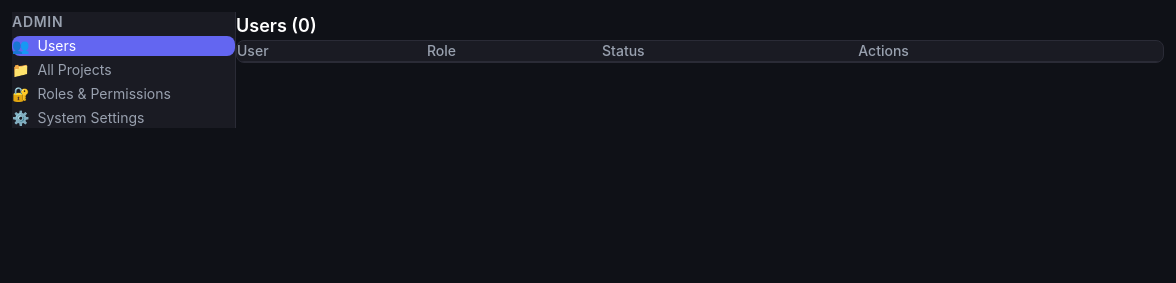
AdminPage › opens role editor when a role is clicked
Step 1. Click the button "🔐 Roles & Permissions" → click(124, 94), box [12,84,235,104]
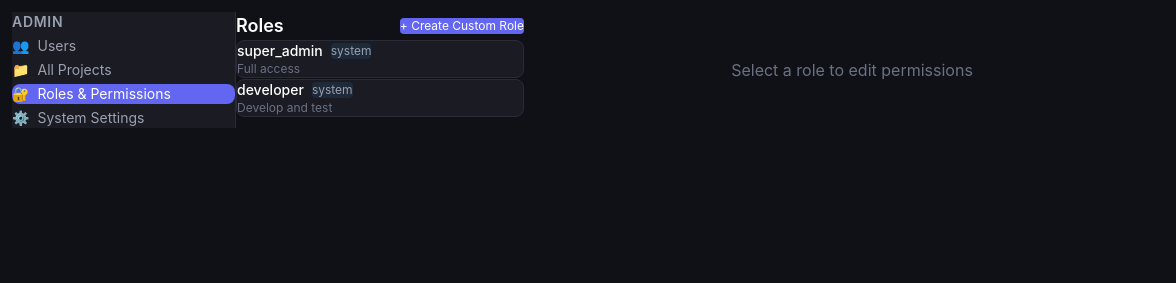
Now the text "super_admin" is shown
Step 2. Click the text "super_admin" → click(280, 51), box [237,41,323,61]
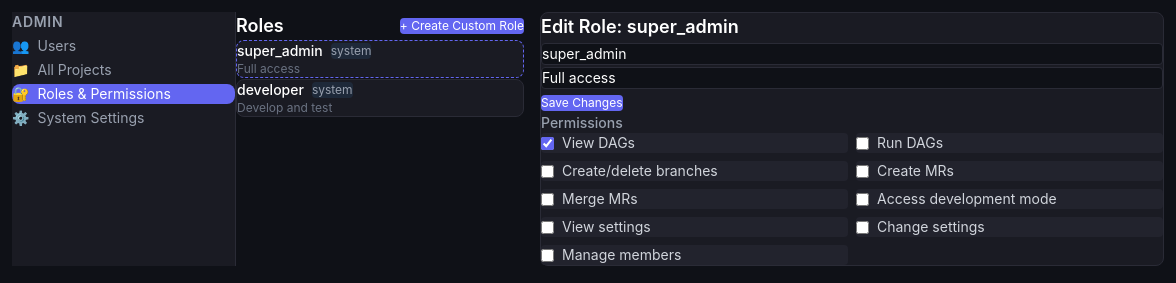
Now the heading "Permissions" is shown, box [541,114,623,131]
Now the heading "Edit Role: super_admin" is shown, box [541,13,739,41]
Now the text "View DAGs" is shown, box [562,133,635,153]
